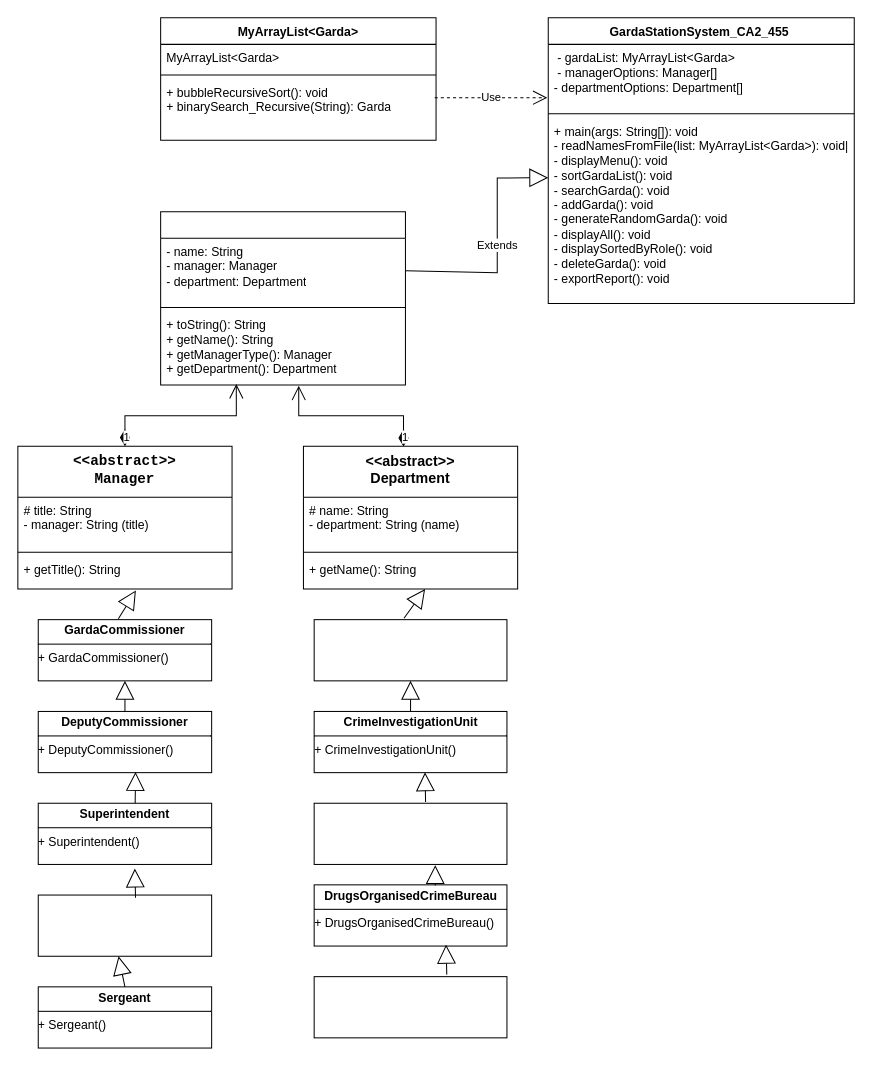
This 872x1066 diagram has some shape labels left out. Here are the shapes that lost their labels. From the top down, the box of each, then its label:
(160, 211, 405, 385): Garda
(313, 619, 507, 681): CyberCrimeUnit + CyberCrimeUnit()
(313, 802, 507, 864): CommunityPolicingUnit + CommunityPolicingUnit()
(37, 894, 212, 956): Inspector + Inspector()
(313, 976, 507, 1038): NationalImmigrationBureau + NationalImmigrationBureau()
